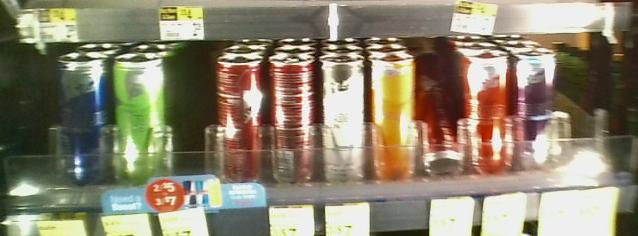bottle: (55, 49, 109, 186), (264, 47, 317, 186), (319, 43, 370, 183), (114, 52, 165, 187), (213, 49, 261, 183), (463, 47, 511, 172), (372, 50, 416, 185), (515, 42, 559, 173), (424, 121, 463, 187)
